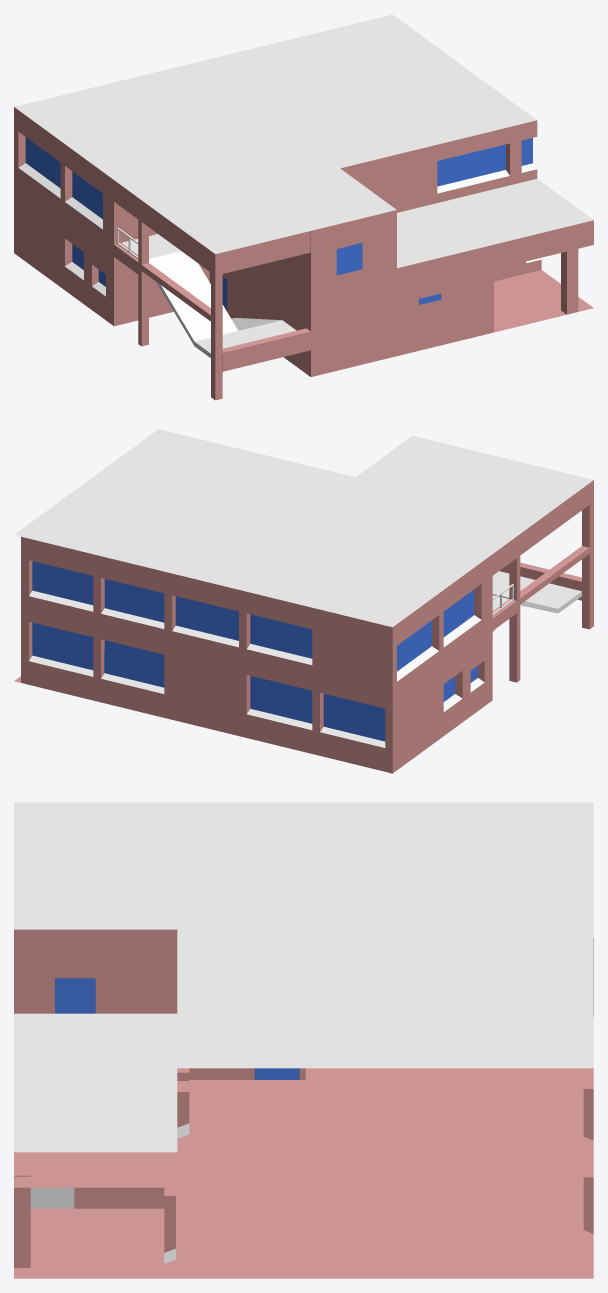
The model's file is denkigizyutu.glb.
3 renders of one model, top to bottom at view 1: azimuth 30°, elevation 25°; view 2: azimuth 150°, elevation 25°; view 3: azimuth 270°, elevation 25°, orthographic. The views are drawn at different scales.
Visible parts, largest first — view 1: 奥; view 2: 奥; view 3: 奥.
Part boxes in pixels (bbox=[...]): 奥: bbox=[14, 14, 593, 400]; 奥: bbox=[14, 429, 593, 773]; 奥: bbox=[14, 802, 593, 1278].
Size of the model in its own units: 7.44 by 2.76 by 6.86.
1 material, 1 textured.
